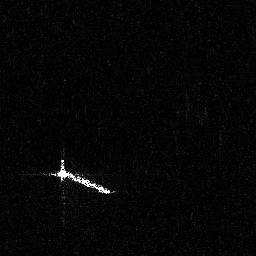ship: (23, 151, 120, 198)
